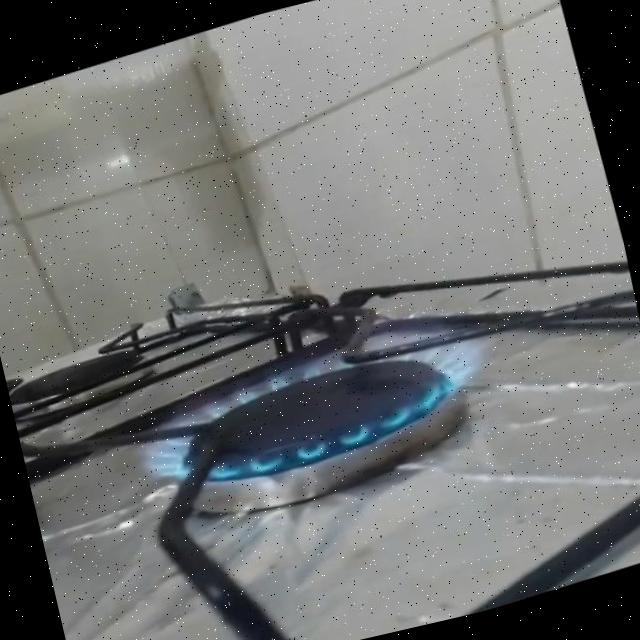fire: (89, 276, 519, 521)
